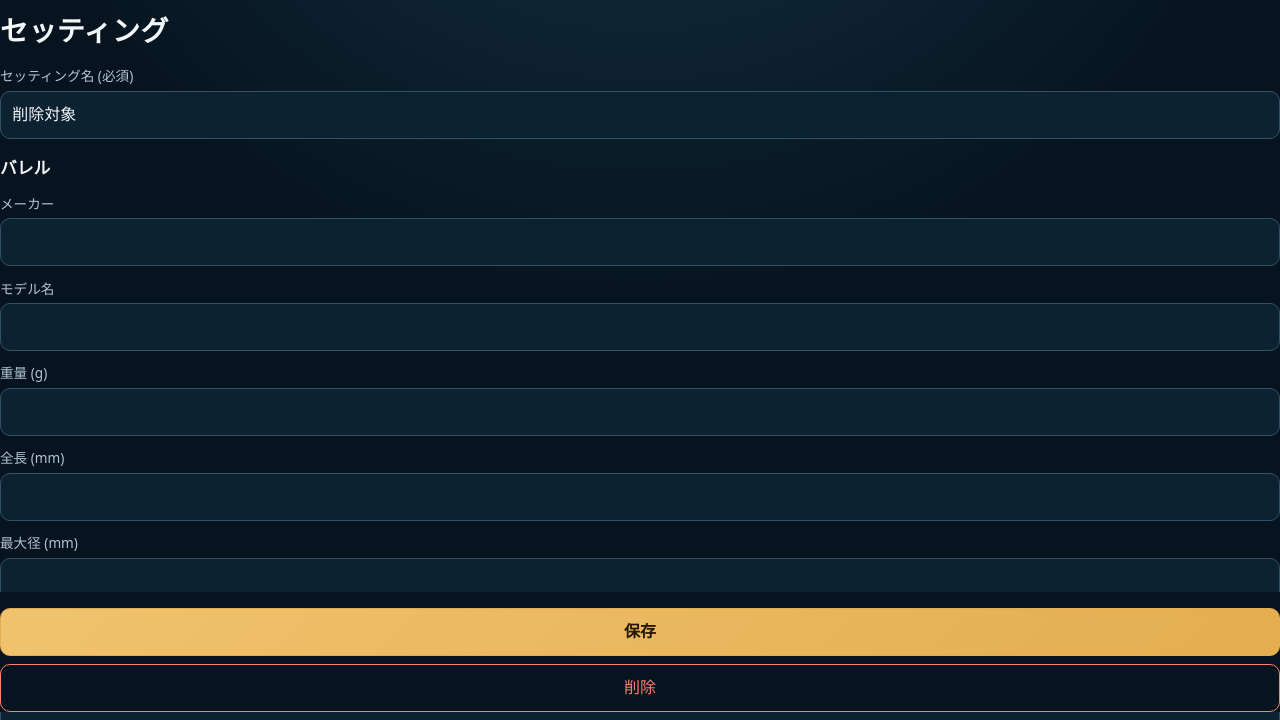
EquipmentEditPage (セッティング保存) › 削除すると一覧とIndexedDBから消える
Expected: the field showing "削除対象" is shown, [0,90,1279,138]
Click the button "削除". click: (640, 688)
box: [0,664,1279,712]
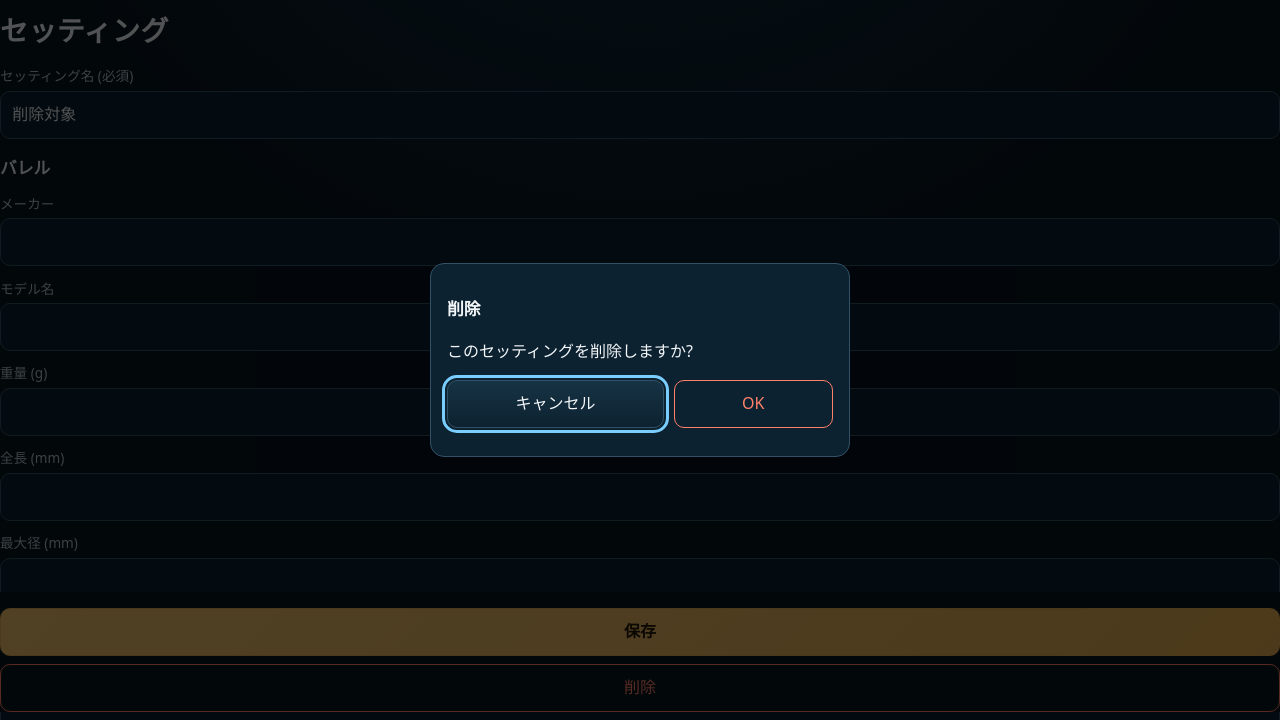
// 確認ダイアログのOK
Click the button "OK". click: (753, 404)
box: [674,380,833,428]
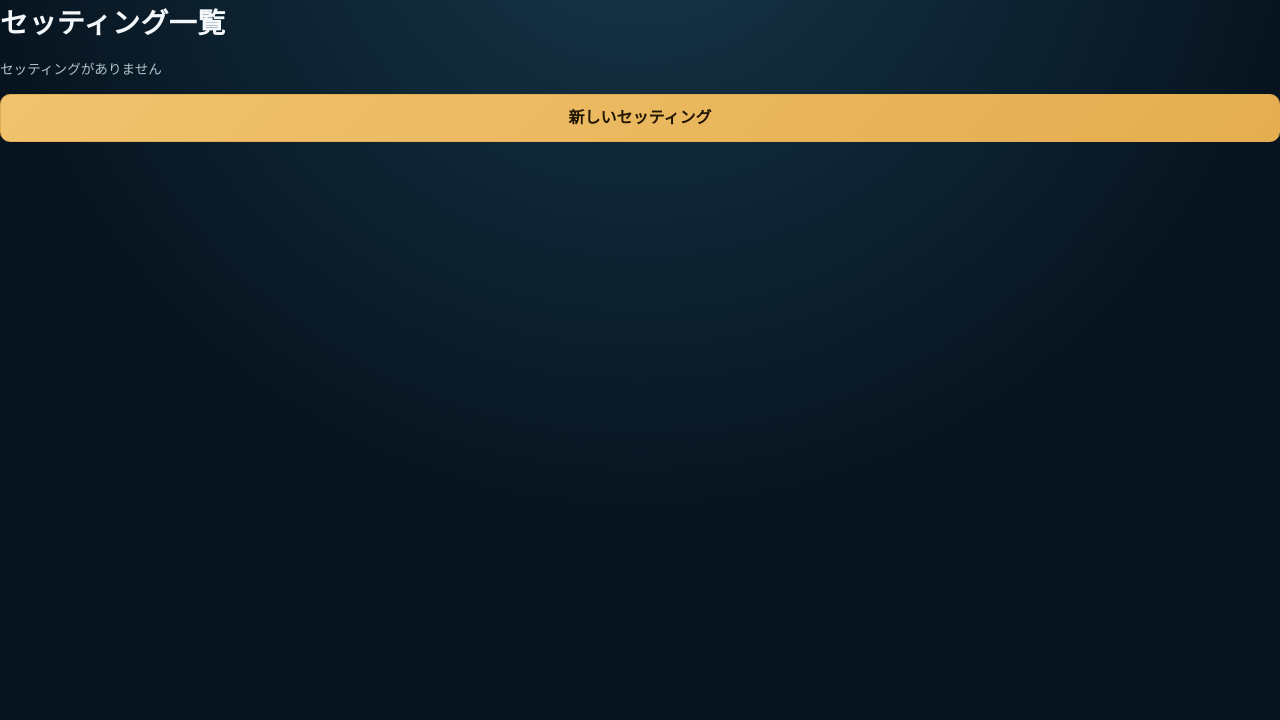
Expected: the text "セッティングがありません" is shown, [0,59,162,78]
